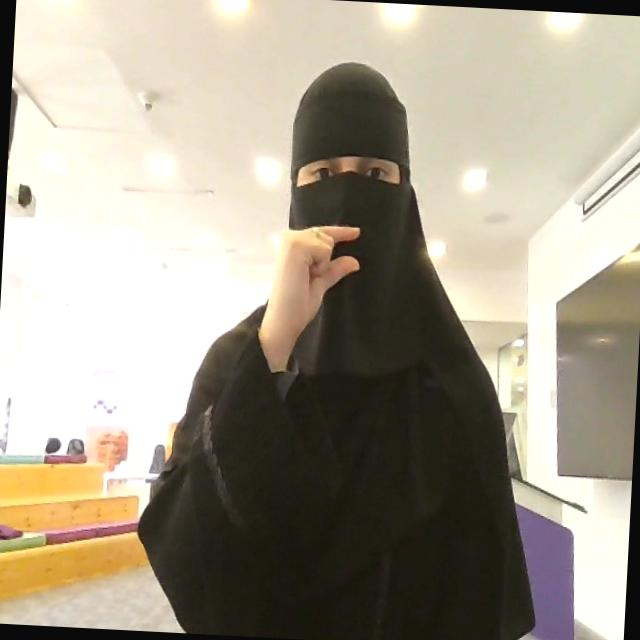fasting: (255, 218, 363, 376)
